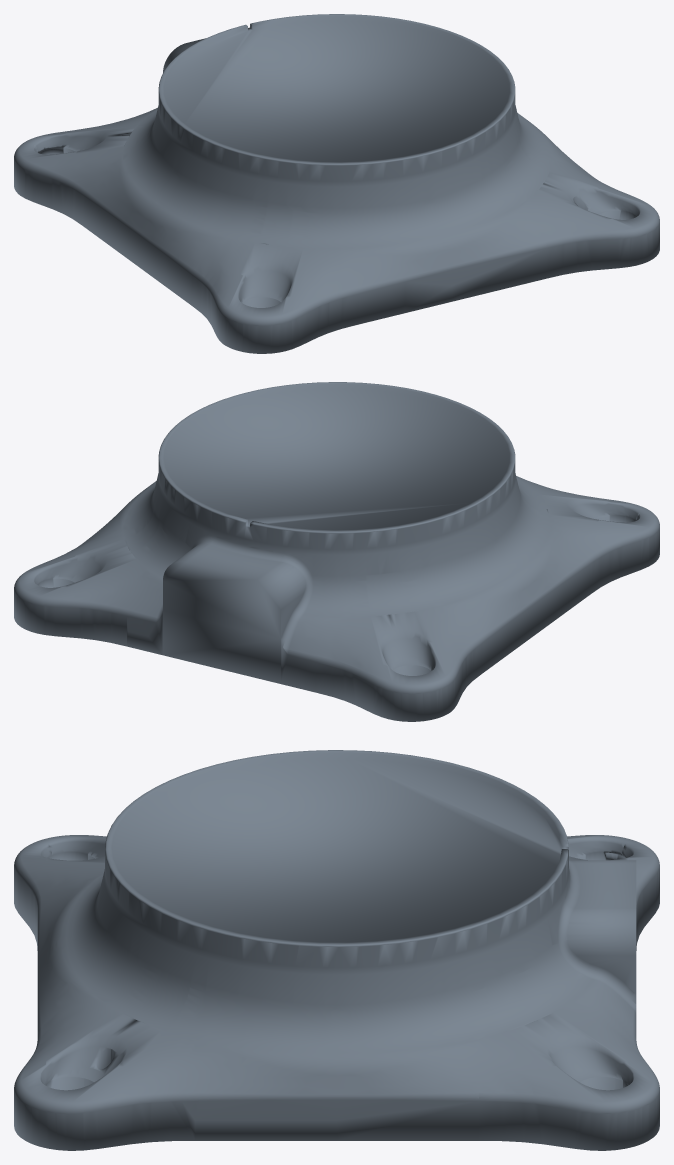
3 renders of one model, top to bottom at view 1: azimuth 30°, elevation 25°; view 2: azimuth 150°, elevation 25°; view 3: azimuth 270°, elevation 25°, orthographic. The views are drawn at different scales.
Bounding box in the file's own units: 0.1824 × 0.1824 × 0.052.
